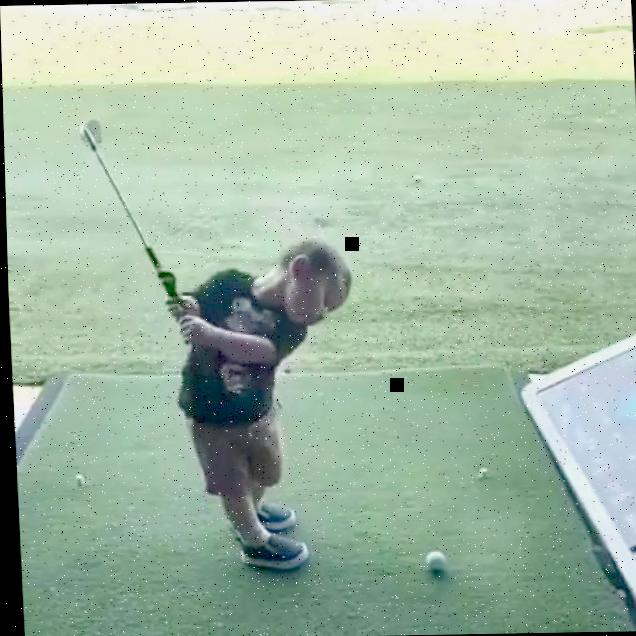ClubHead: (79, 121, 99, 145)
GolfBall: (421, 550, 442, 570)
